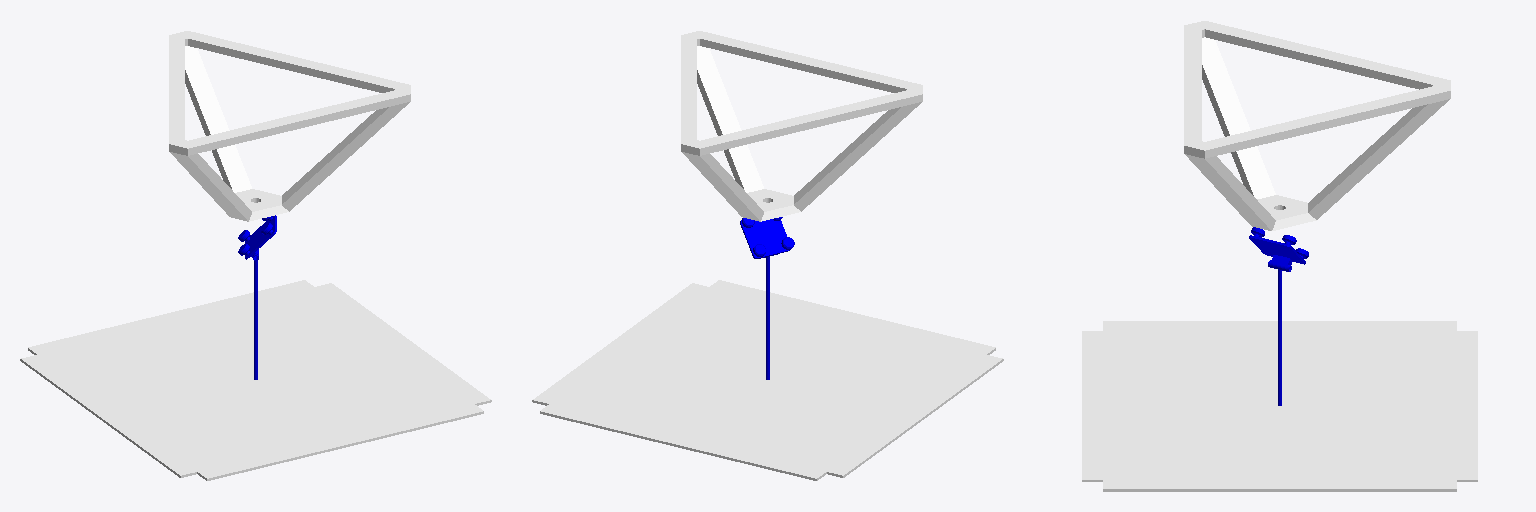
robot.urdf — deltarobot:
<?xml version="1.0"?>
<robot name="deltarobot">

    <!-- RAILS -->
    <link name="rails_link">
        <visual>
            <origin xyz="0 0 0"/>
            <geometry>
                <mesh filename="rails.stl"/>
            </geometry>
            <material name="white">
              <color rgba="1 1 1 1"/>
            </material>
        </visual>
        <collision>
            <origin xyz="0 0 0"/>
            <geometry>
                <mesh filename="rails.stl"/>
            </geometry>
        </collision>
    </link>
    <!-- RAILS END-->

    <!-- ************************************************************************ -->

    <!-- CARRIAGE 3 -->
    <link name="carriage_3_link">
        <visual>
            <origin xyz="0. 0. 0." rpy="0 0 -2.0943951"/>
            <geometry>
                <mesh filename="carriage.stl"/>
            </geometry>
            <material name="blue">
              <color rgba="0 0 1 1"/>
            </material>
        </visual>
    </link>

    <joint name="carriage_3_joint" type="prismatic">
        <origin xyz="0. 0. 0." rpy="0 0 0"/>
        <parent link="rails_link"/>
        <child link="carriage_3_link"/>
        <axis xyz="0.61237244 -0.35355339 0.70710678"/>
        <limit lower="0" upper="0" velocity="0" effort="0"/> 
    </joint>
    <!-- CARRIAGE 3 END-->


    <!-- ROD 3A -->
    <link name="rod_3a_link_virtual">
    </link>

    <link name="rod_3a_link">
        <visual>
            <origin xyz="0 0 0" rpy="0 0 0"/>
            <geometry>
                <mesh filename="link.stl"/>
            </geometry>
            <material name="blue">
              <color rgba="0 0 1 1"/>
            </material>
        </visual>
        <collision>
            <origin xyz="0. 0. 0."/>
            <geometry>
                <mesh filename="link.stl"/>
            </geometry>
        </collision>
    </link>

    <joint name="rod_3a_x_joint" type="revolute">
        <origin xyz="0 0 0" rpy="0 0 0"/>
        <parent link="carriage_3_link"/>
        <child link="rod_3a_link_virtual"/>
        <axis xyz="-0.5 -0.8660254 0"/>
        <limit lower="0" upper="0" velocity="0" effort="0"/> 
    </joint>

    <joint name="rod_3a_y_joint" type="revolute">
        <origin xyz="0 0 0" rpy="0 0 0"/>
        <parent link="rod_3a_link_virtual"/>
        <child link="rod_3a_link"/>
        <axis xyz="0.8660254 -0.5 0"/>
        <limit lower="0" upper="0" velocity="0" effort="0"/> 
    </joint>
    <!-- ROD 3A END-->


    <!-- ROD 3 END EFFECTOR -->
    <link name="rod_3_end_effector_link">
    </link>

    <joint name="rod_3_end_effector_joint" type="fixed">
        <origin xyz="0 0 -400"/>
        <parent link="rod_3a_link"/>
        <child link="rod_3_end_effector_link"/>
    </joint>
    <!-- ROD 3 END EFFECTOR END -->

    <!-- ************************************************************************ -->

</robot>

--- What the picture shows (computed from the rendered views, not written in the file) ---
The picture shows the robot from 3 angles, left to right: view 1: azimuth 30°, elevation 25°; view 2: azimuth 150°, elevation 25°; view 3: azimuth 270°, elevation 25°; orthographic projection.
Model deltarobot with 5 links and 4 joints (2 revolute, 1 prismatic, 1 fixed), rooted at rails_link, posed all joints at 0.
Visible links, largest first — view 1: rails_link, carriage_3_link; view 2: rails_link, carriage_3_link; view 3: rails_link, carriage_3_link, rod_3a_link.
Boxes of the visible links, bbox=[...] form: rails_link: bbox=[20, 31, 491, 480]; carriage_3_link: bbox=[238, 215, 276, 260]; rails_link: bbox=[532, 31, 1003, 480]; carriage_3_link: bbox=[740, 217, 794, 258]; rails_link: bbox=[1082, 21, 1477, 491]; carriage_3_link: bbox=[1249, 227, 1308, 271]; rod_3a_link: bbox=[1278, 270, 1281, 405].
Bounding box of the posed robot: 664 × 664 × 740 m (x, y, z).
3 mesh visuals loaded from 3 distinct referenced files (3 binary STL).